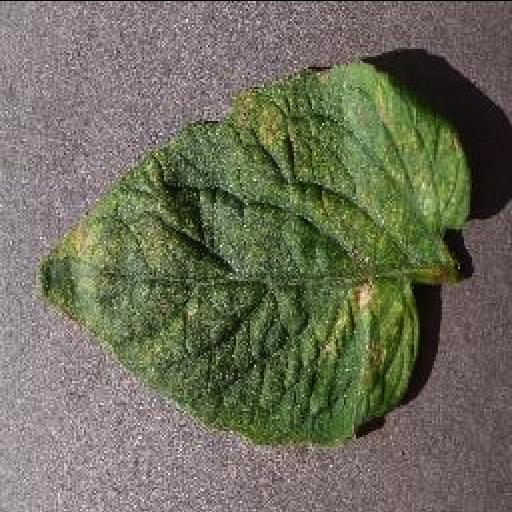disease_tomato: (37, 59, 471, 445)
